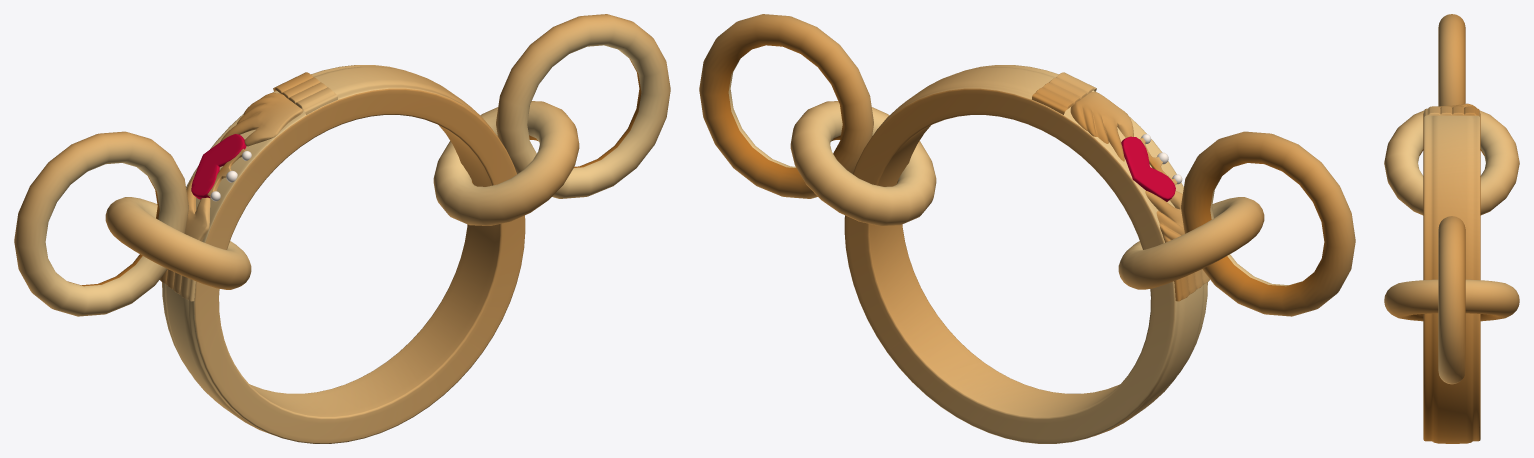
Rendered from hashigo_r_c.fbx.
3 renders of one model, left to right at view 1: azimuth 30°, elevation 25°; view 2: azimuth 150°, elevation 25°; view 3: azimuth 270°, elevation 25°, orthographic. The views are drawn at different scales.
Visible parts, largest first — view 1: d2; view 2: d2; view 3: d2.
Boxes of the visible parts, x1,y1,x2,y2 form: d2: [14, 14, 670, 443]; d2: [699, 14, 1355, 443]; d2: [1384, 14, 1519, 443].
Size of the model in its own units: 19.09 by 9.94 by 4.
Materials: 4 (2 with a texture image).
